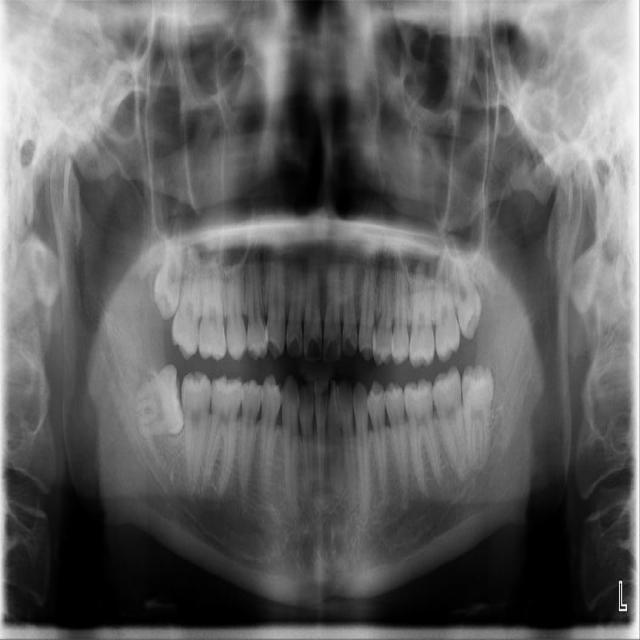3M ESPE Implant: (150, 212, 189, 322)
BioHorizons Implant: (432, 228, 461, 363)
BioLife Implant: (442, 231, 488, 342)
Caries: (170, 246, 203, 360)
Implant: (429, 366, 471, 481), (181, 371, 212, 493)
Keystone Dental Implant: (126, 362, 188, 441), (460, 363, 499, 468)
